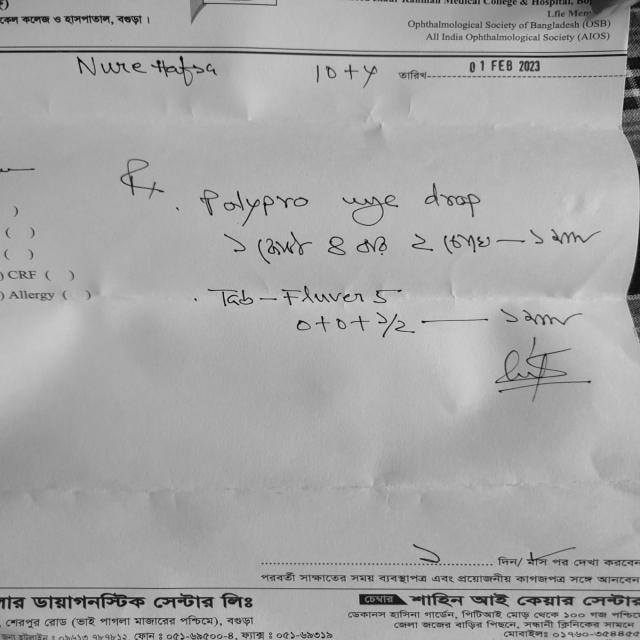medicine: (190, 181, 321, 228), (278, 280, 372, 310)
